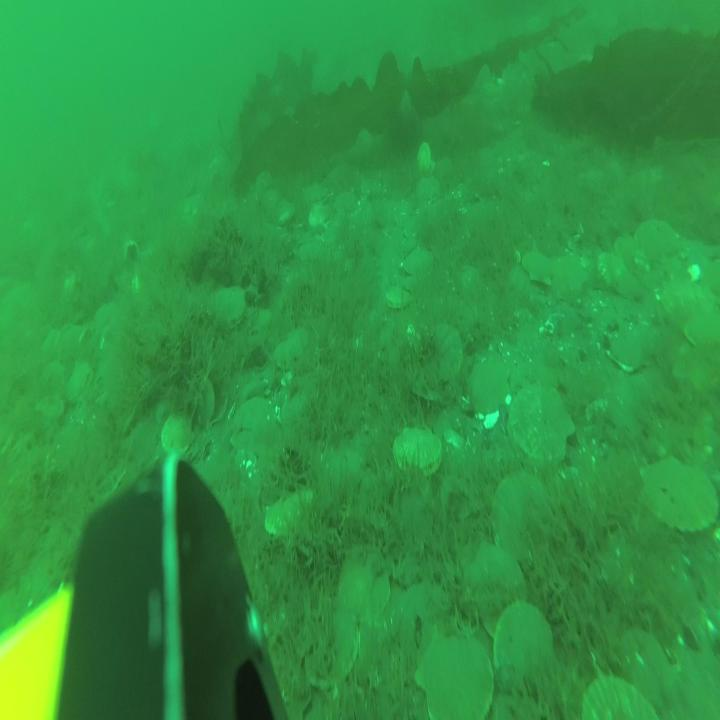scallop: (641, 451, 720, 542), (416, 628, 493, 720), (507, 382, 577, 468), (490, 470, 552, 564), (462, 543, 528, 629), (492, 600, 551, 688), (579, 667, 664, 720), (306, 611, 360, 686), (338, 549, 390, 626), (620, 623, 670, 696), (393, 423, 442, 483), (417, 324, 461, 388), (263, 484, 314, 539), (470, 359, 509, 422), (609, 326, 649, 376), (635, 217, 678, 262), (550, 255, 588, 302), (211, 284, 248, 331), (598, 244, 630, 298), (616, 230, 651, 278), (684, 313, 720, 357), (161, 415, 196, 458), (521, 246, 554, 288), (189, 374, 217, 423), (402, 244, 432, 283), (415, 173, 441, 209), (69, 366, 92, 404), (384, 279, 413, 309), (416, 138, 435, 173), (334, 187, 359, 213), (43, 395, 65, 424), (304, 181, 328, 207), (308, 201, 328, 232)
